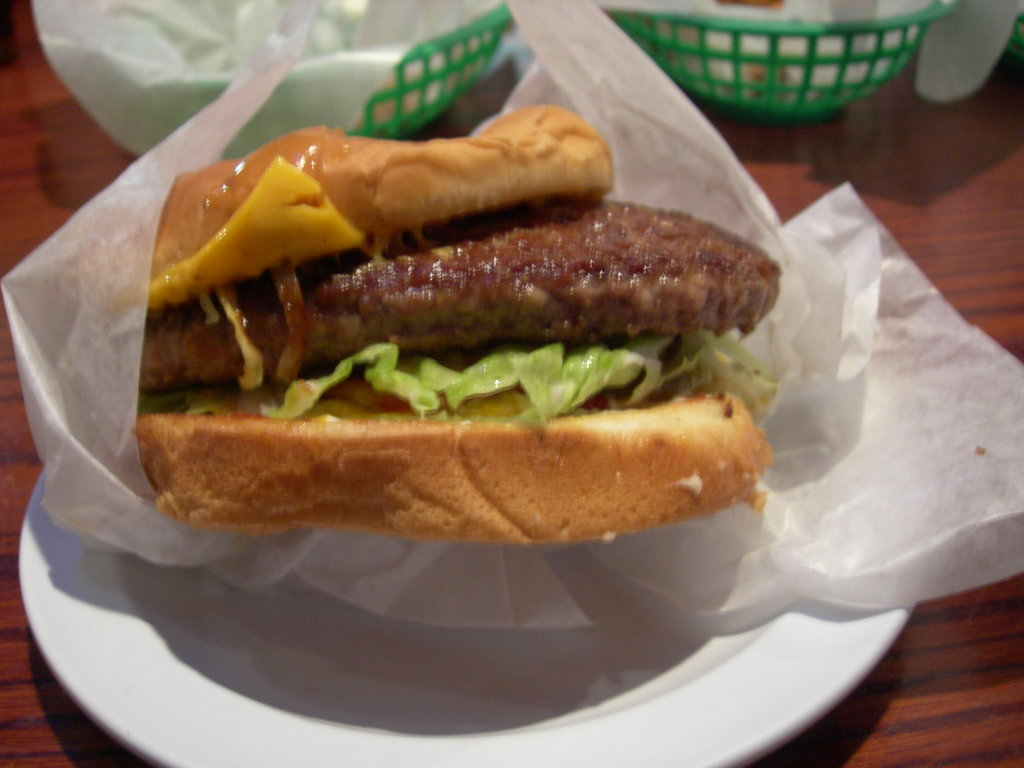Hamburger: (138, 103, 781, 536)
